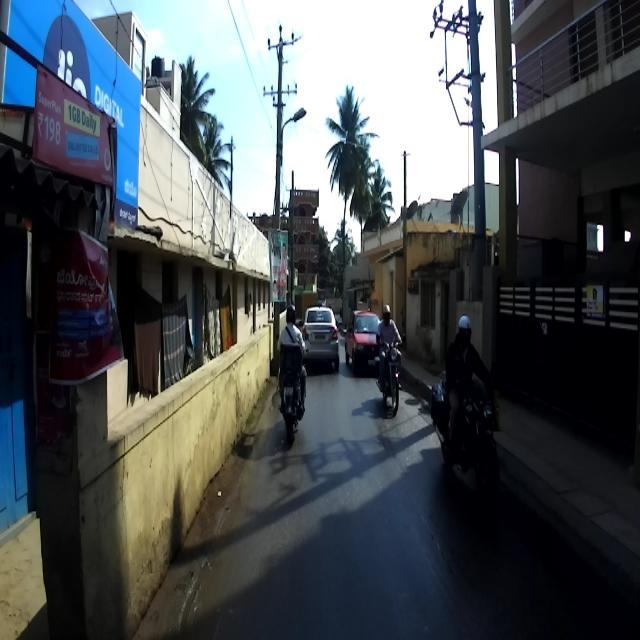Car_Maruti-Suzuki: (344, 307, 388, 375), (298, 305, 340, 370)
motorcycle: (374, 333, 404, 417)
motorcycle_Honda: (275, 329, 308, 444)
motorcycle_bajaj: (430, 369, 500, 498)
